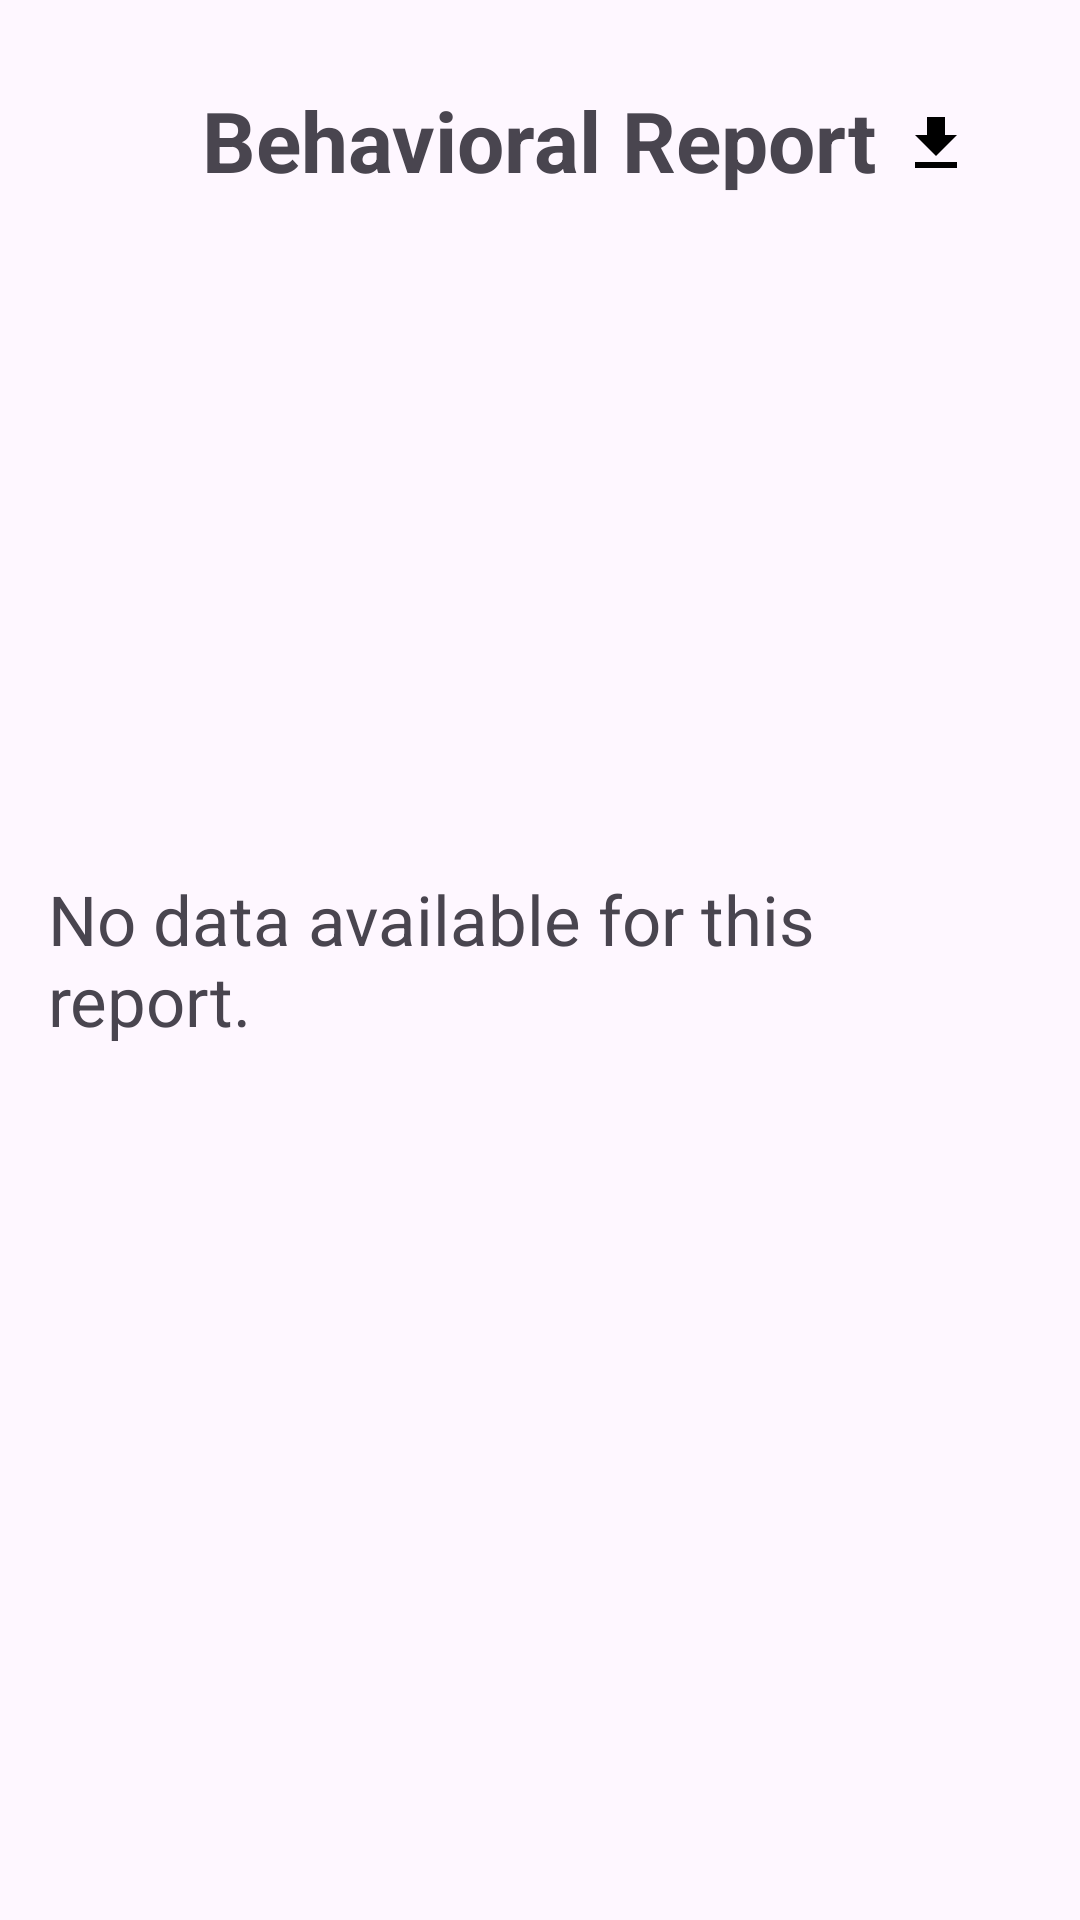

Icons on this 1080x1920 Android screen, each with its box as (x1,y1,x2,y2):
Download Report: (915,117,957,168)
